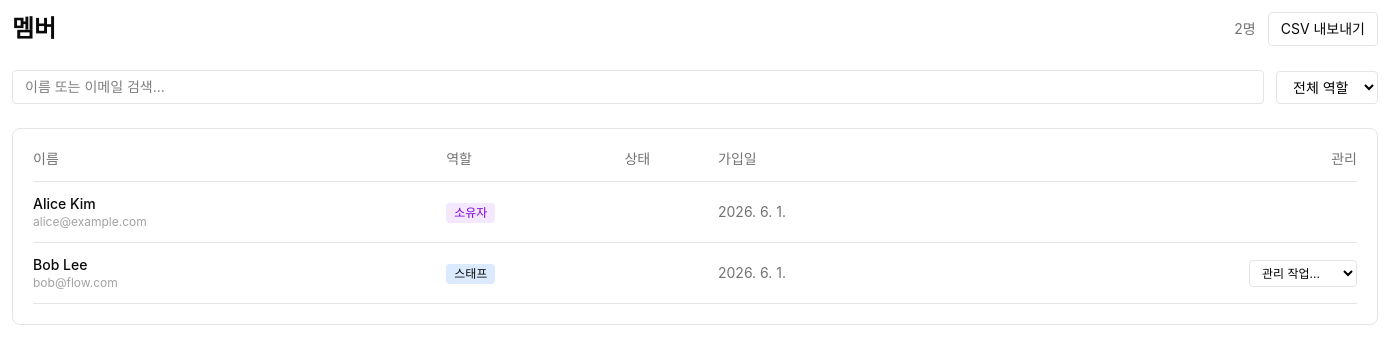
Test: MembersPage › 역할 필터 STAFF → STAFF만 표시
Expected: the text "Alice Kim" is shown, 33,195 -> 96,212
Select "스태프" in the dropdown named "역할 필터" at [1327, 87], box 1276,70 -> 1378,104
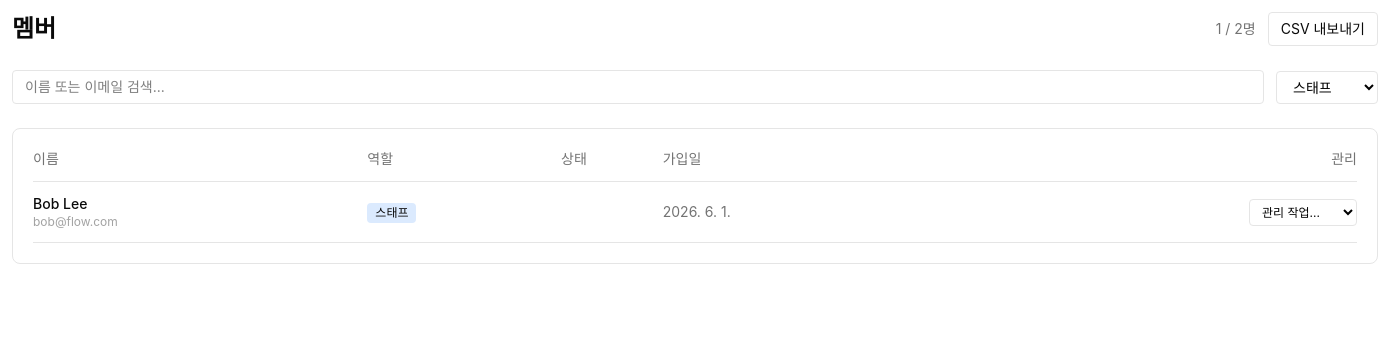
Expected: the text "Bob Lee" is shown, 33,195 -> 87,212
Expected: the text "Alice Kim" is gone
